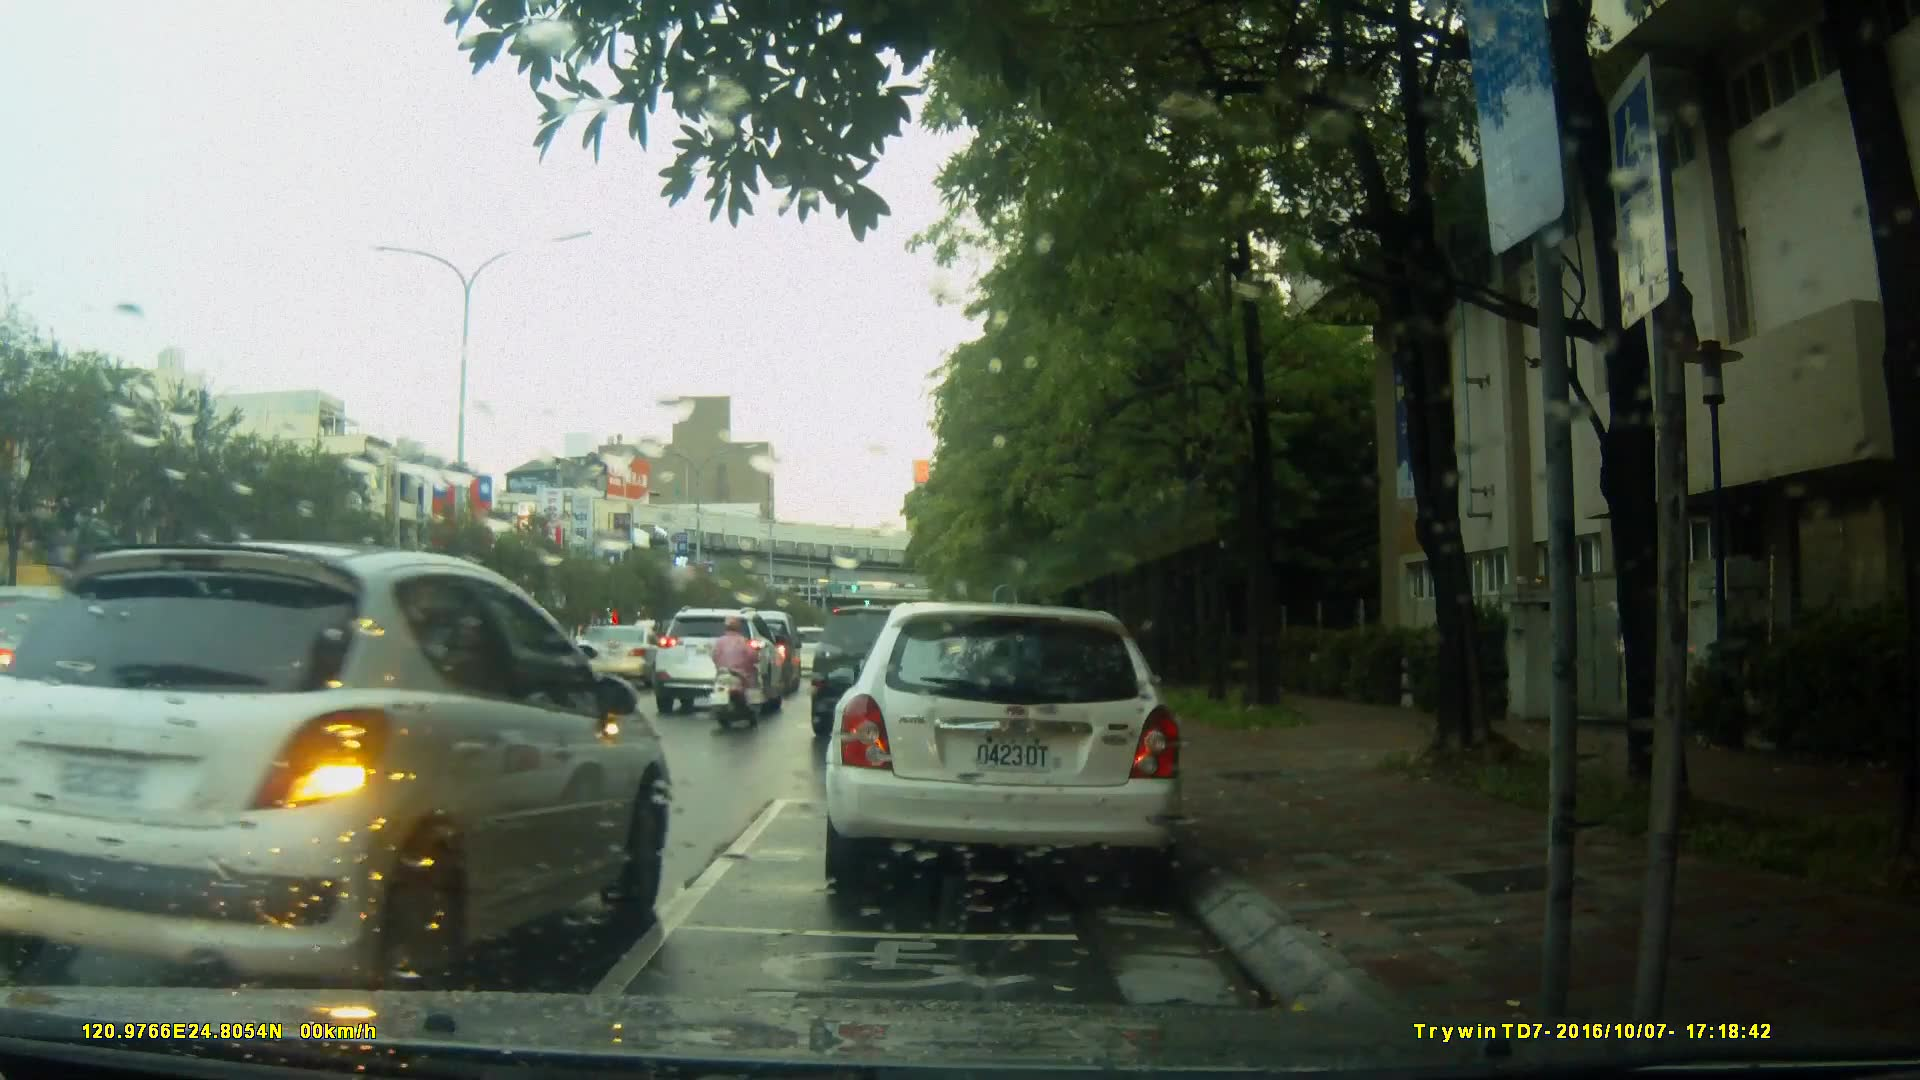rider: (705, 609, 762, 736)
vehicle: (1, 537, 684, 992), (820, 602, 1188, 898), (653, 607, 787, 719), (568, 624, 674, 691)
